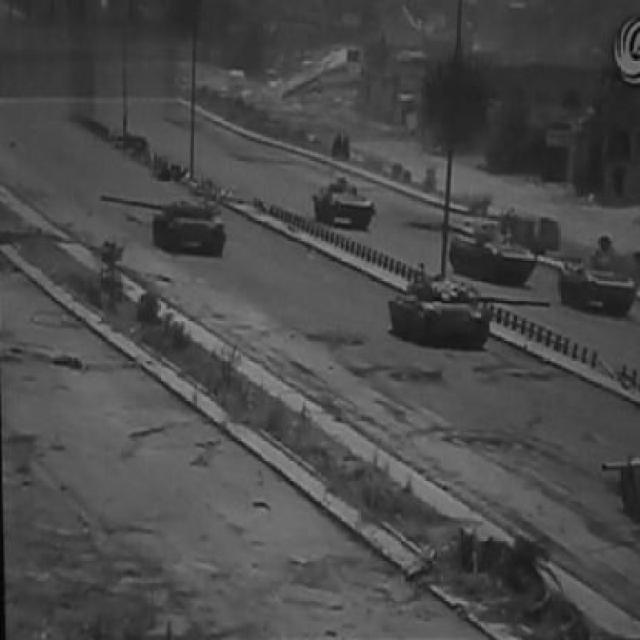Tank: (380, 261, 551, 359), (94, 176, 243, 272), (438, 194, 564, 293), (555, 234, 640, 323), (301, 167, 384, 240), (595, 444, 640, 543)
